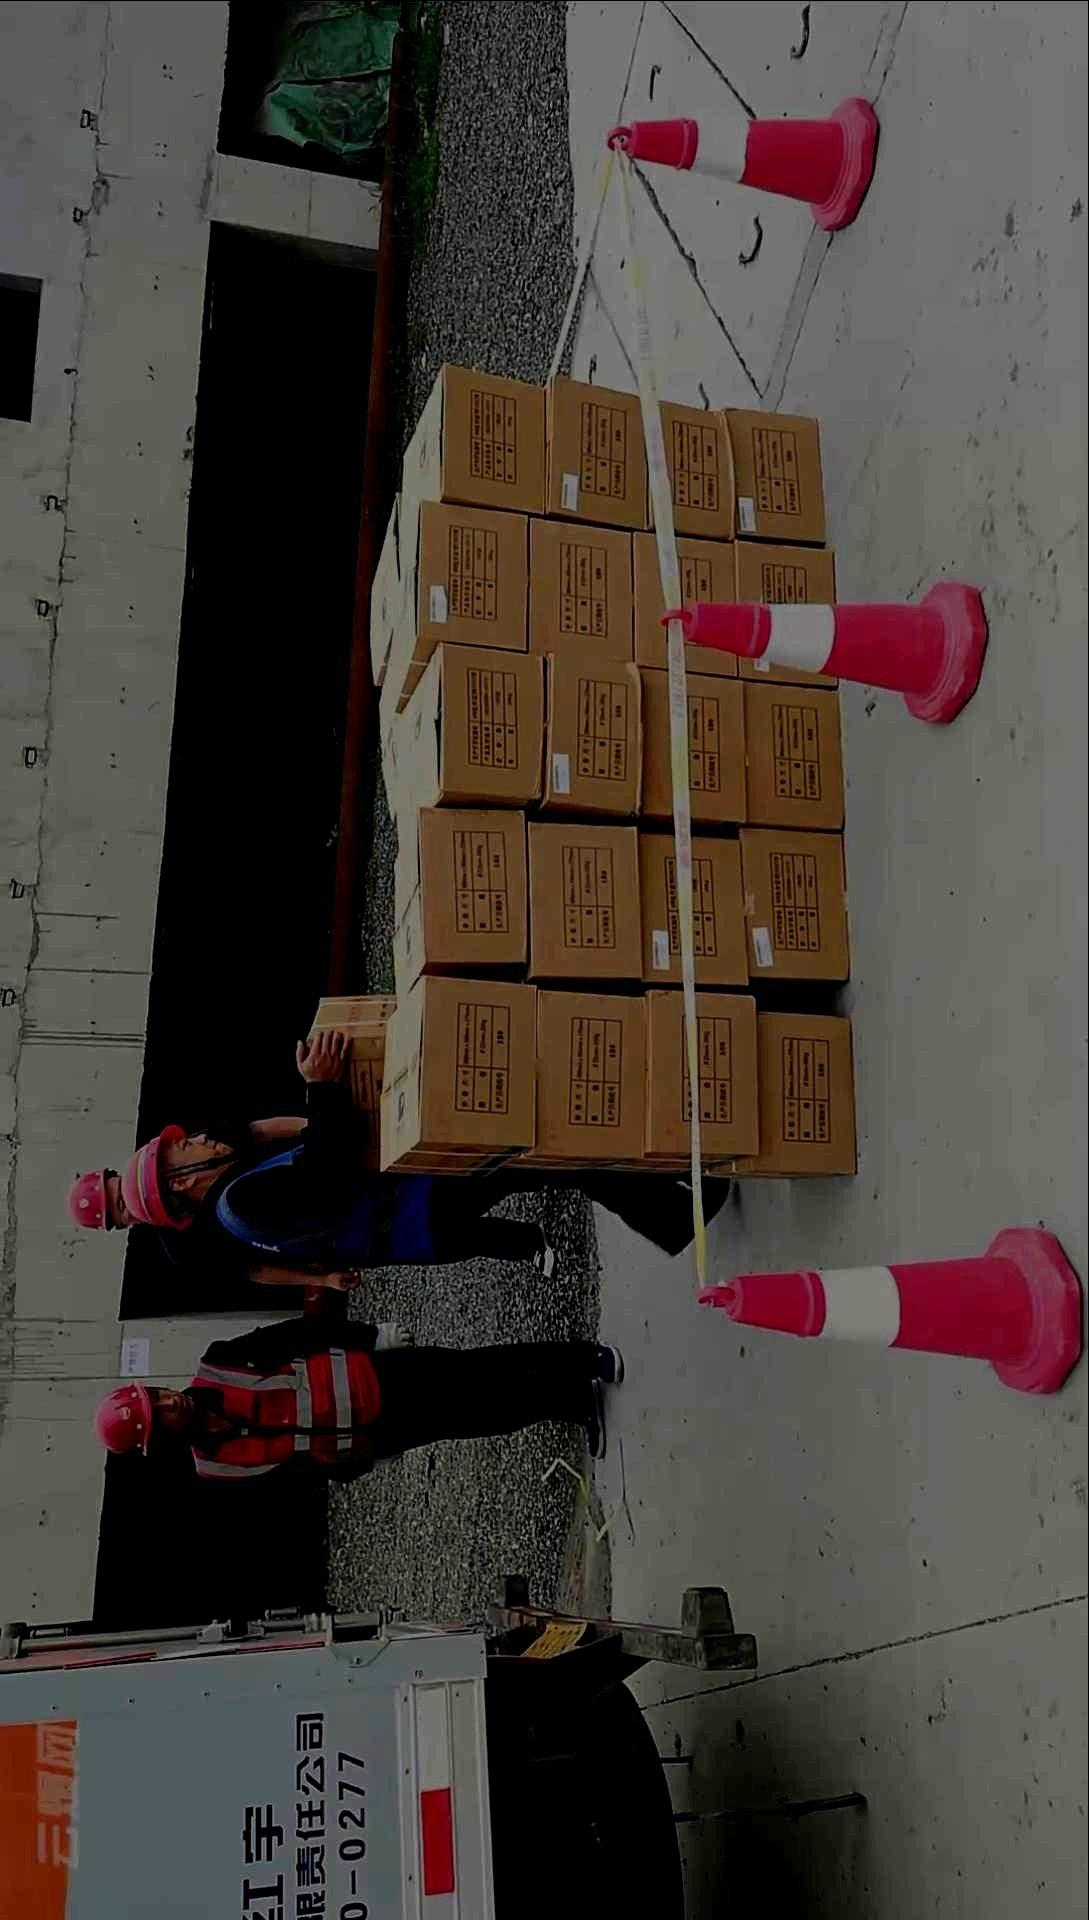helmet: (120, 1124, 233, 1230), (92, 1379, 194, 1458), (66, 1167, 141, 1232)
